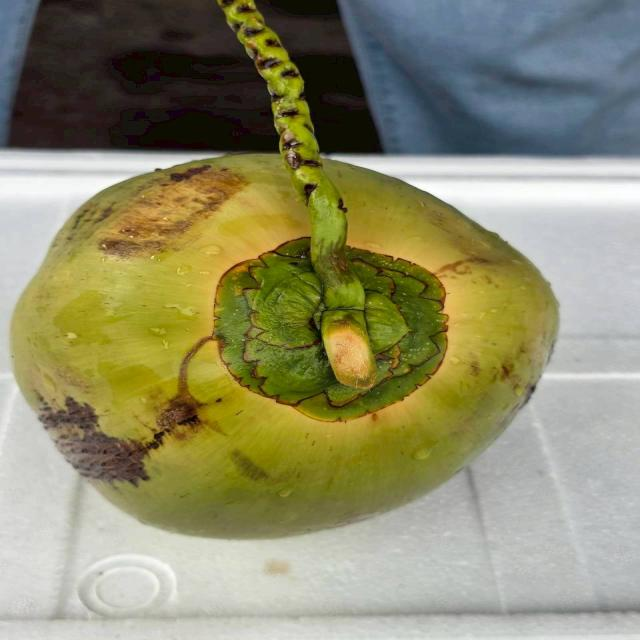coco_1.5: (160, 214, 497, 436)
